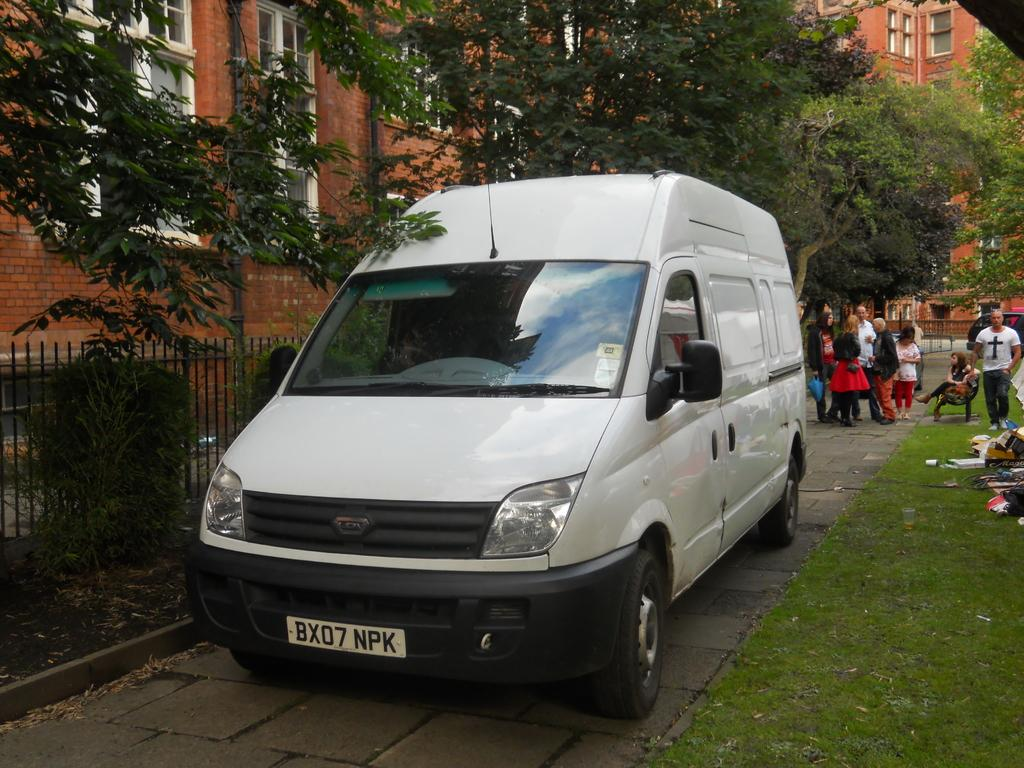vehicle: (188, 170, 811, 721)
